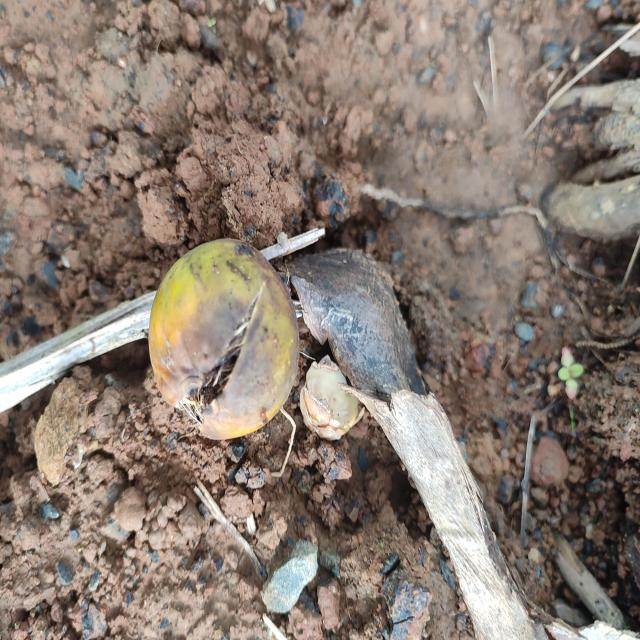damaged: (147, 239, 300, 444)
